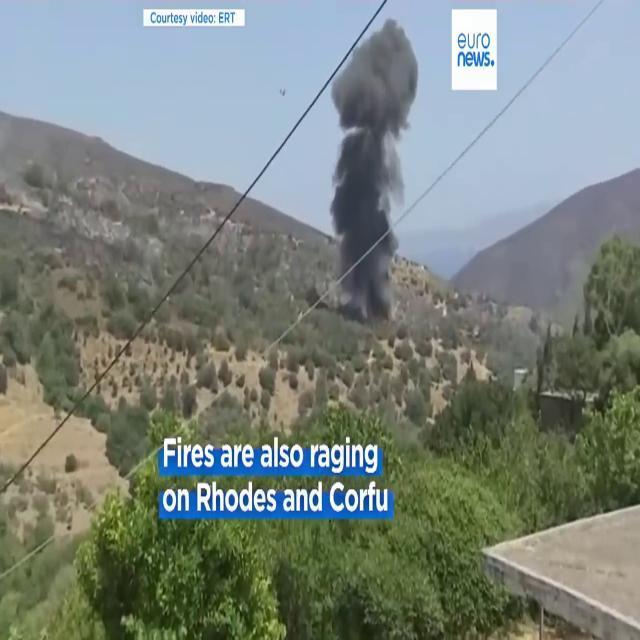Smoke: (322, 7, 422, 306)
